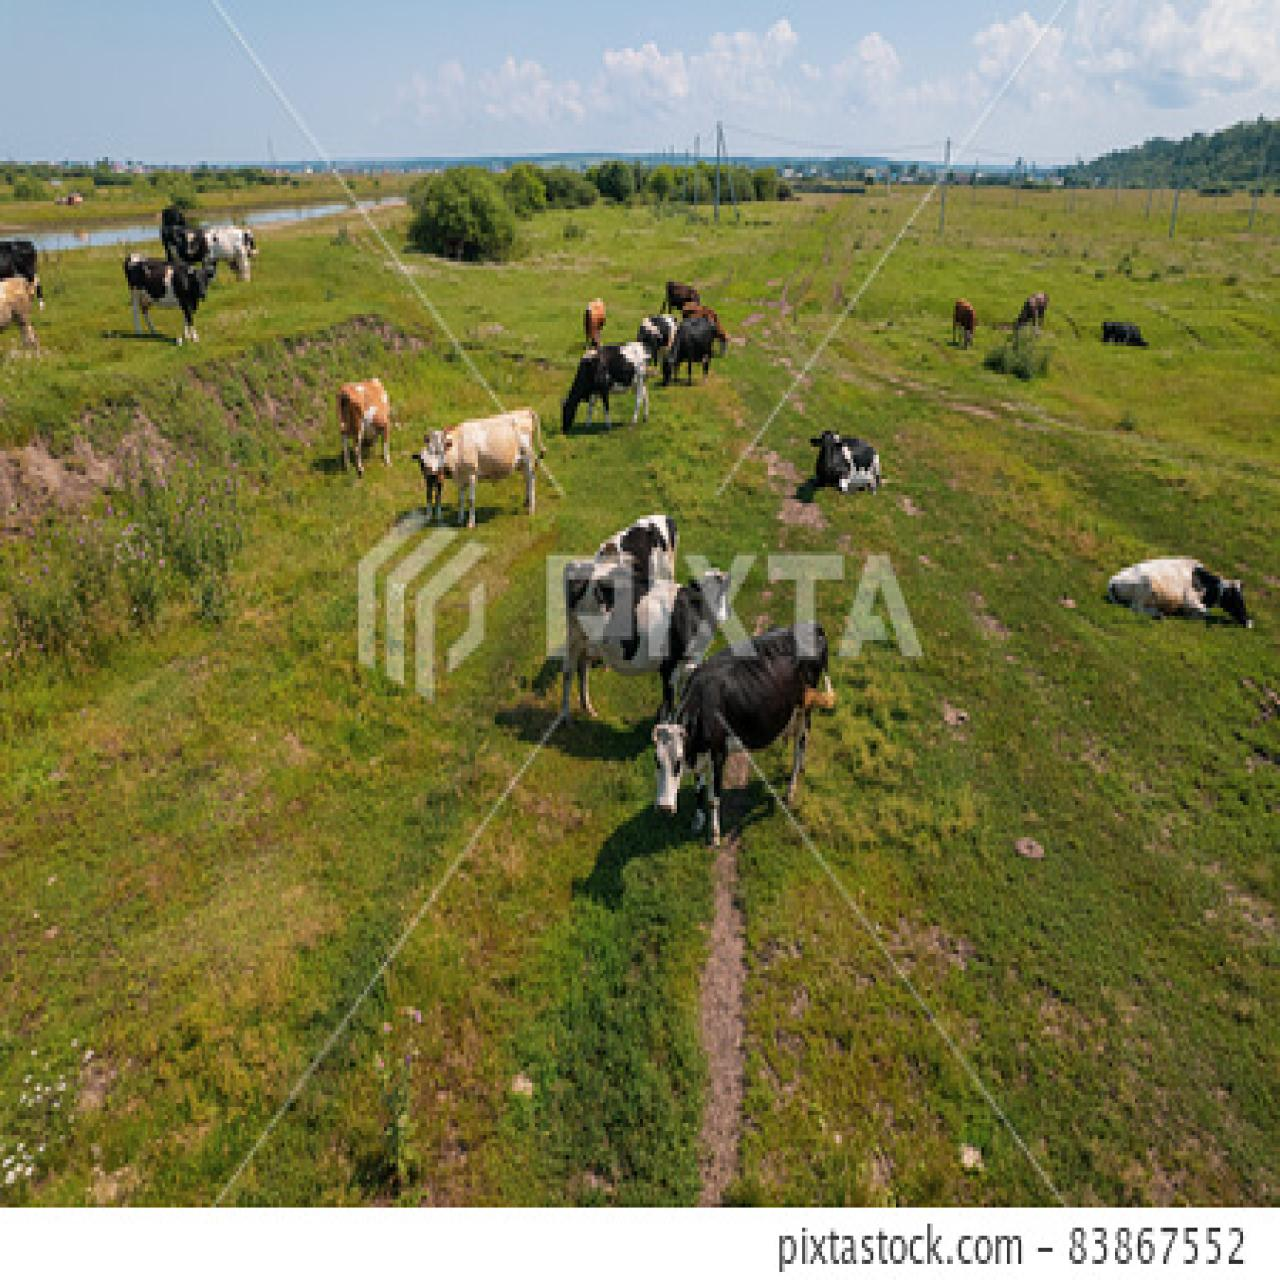cow: (565, 547, 742, 761), (652, 652, 837, 839), (1091, 540, 1257, 641), (409, 406, 544, 524), (592, 504, 687, 595), (123, 252, 211, 343), (560, 341, 649, 429), (336, 381, 396, 472), (812, 430, 886, 496), (191, 220, 259, 286), (665, 313, 723, 388), (0, 270, 43, 350), (570, 291, 612, 345), (953, 298, 981, 352), (1020, 287, 1050, 336)
